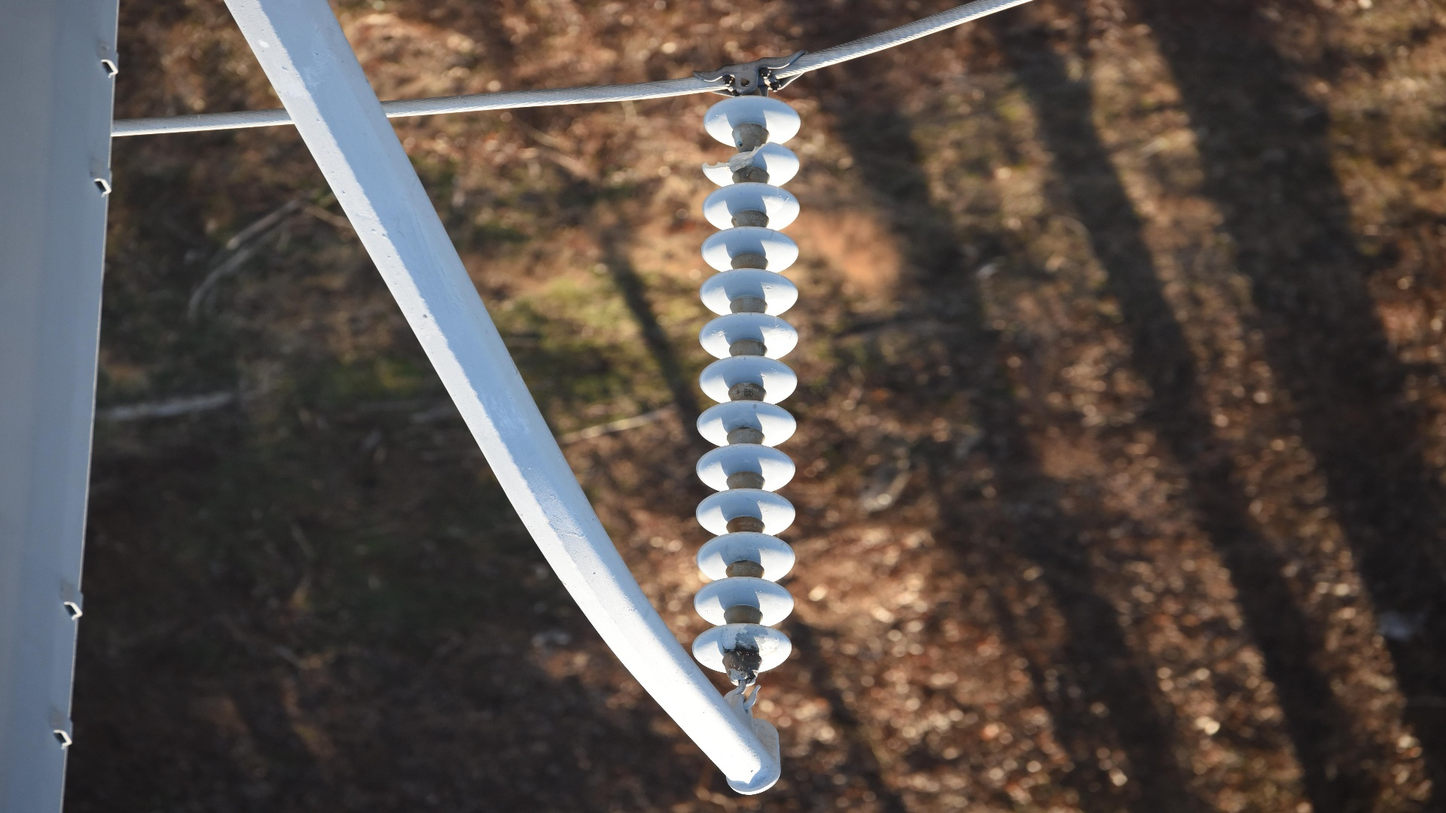insulator: (686, 96, 807, 683)
insulator_breakage: (699, 139, 775, 174)
insulator_flashover: (734, 622, 769, 650)
